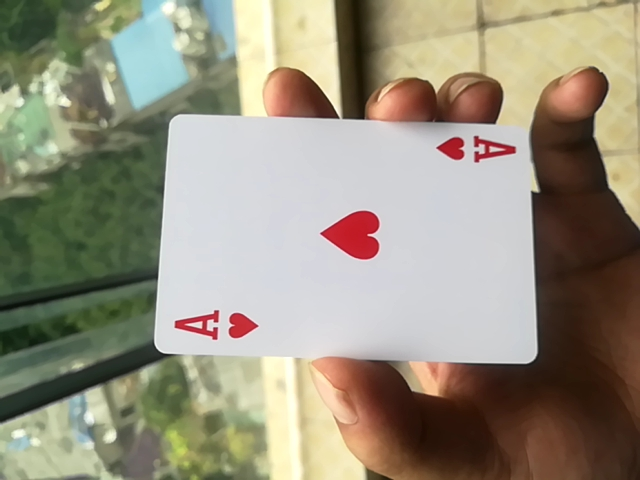hx a: (151, 112, 537, 366)
